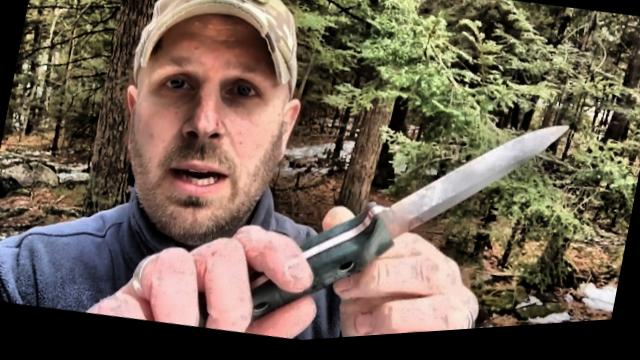knife: (263, 76, 578, 346)
